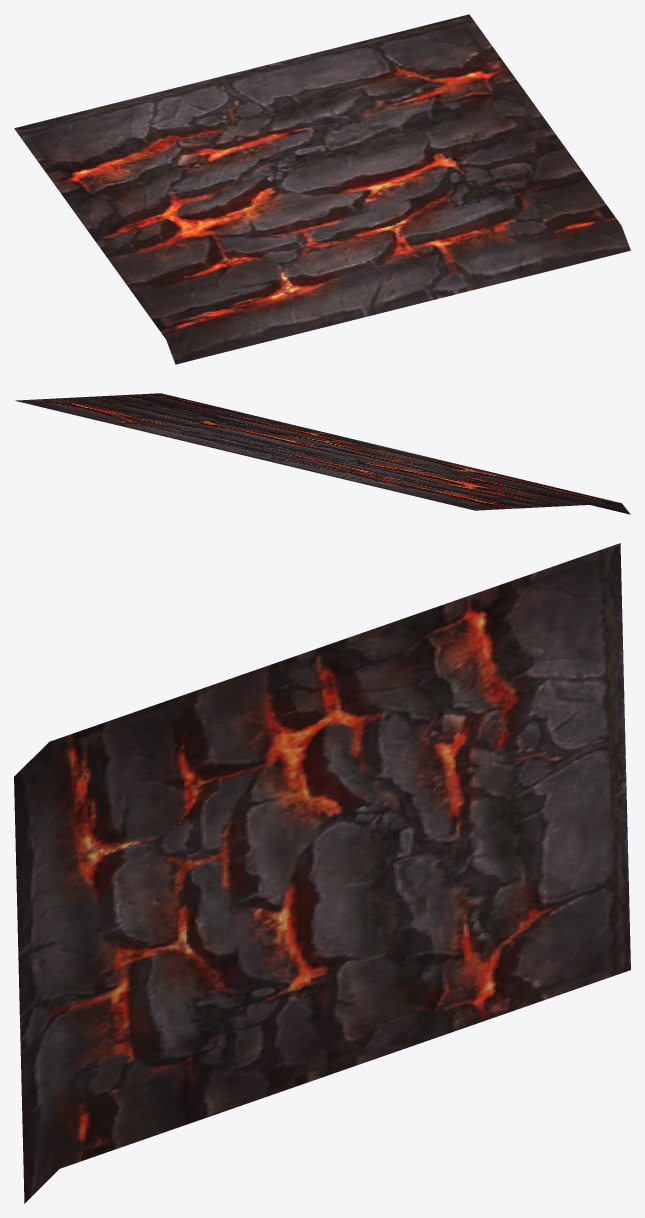
File: hs_touti_1.FBX
The picture shows the model from 3 angles, top to bottom: view 1: azimuth 30°, elevation 25°; view 2: azimuth 150°, elevation 25°; view 3: azimuth 270°, elevation 25°; orthographic projection. The views are drawn at different scales.
Visible parts, largest first — view 1: hs_touti_1; view 2: hs_touti_1; view 3: hs_touti_1.
Boxes of the visible parts, x1,y1,x2,y2 form: hs_touti_1: (14, 14, 630, 364); hs_touti_1: (15, 393, 630, 514); hs_touti_1: (14, 543, 630, 1203).
Bounding box in the file's own units: 29.65 × 7.44 × 17.97.
